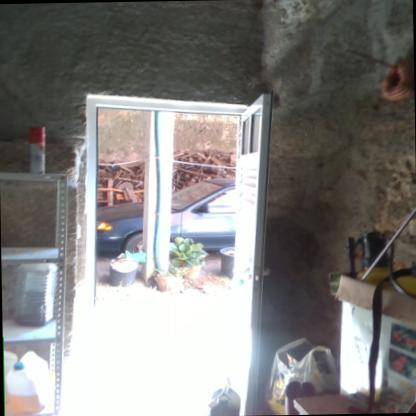open: (69, 83, 283, 415)
